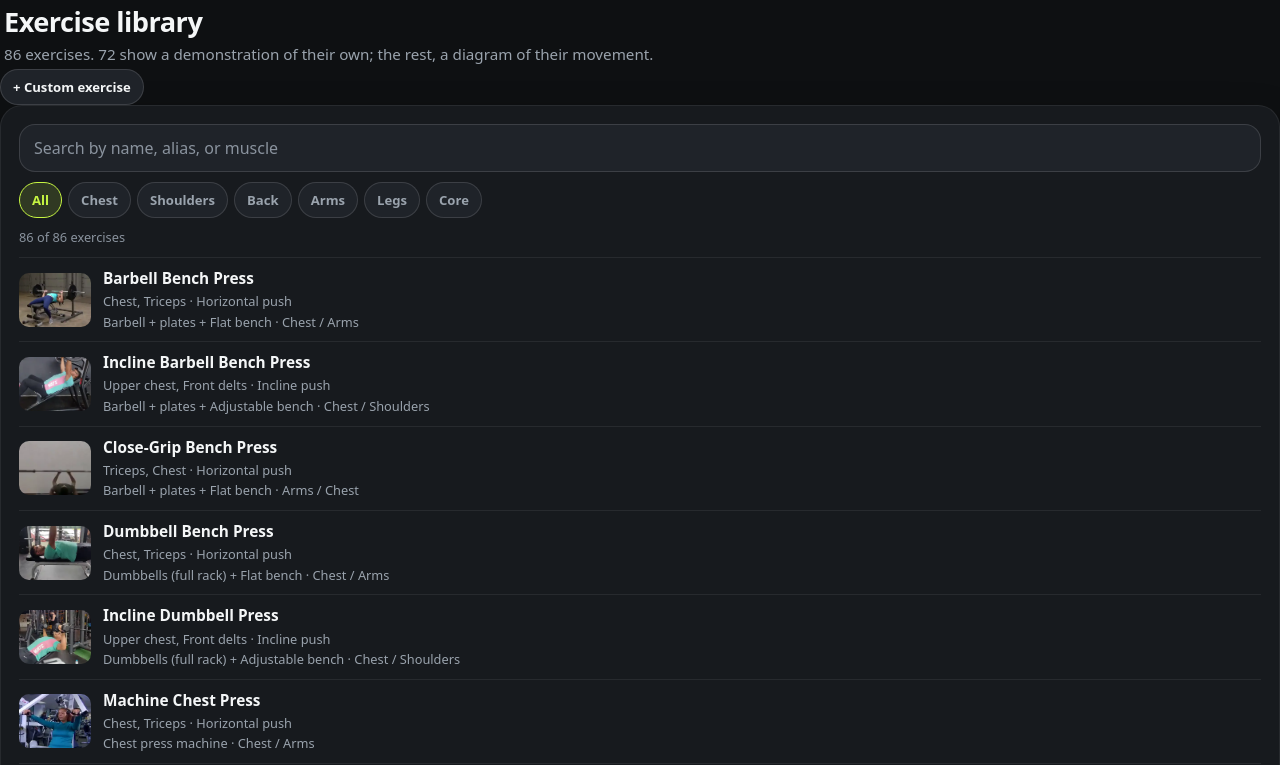
LibraryScreen › opens an exercise with its demonstration, instructions, and ranked alternatives
The width and height of the screenshot is (1280, 765).
Type "barbell bench" into the search field named "Search exercises" at (640, 148), box [19,124,1261,172]
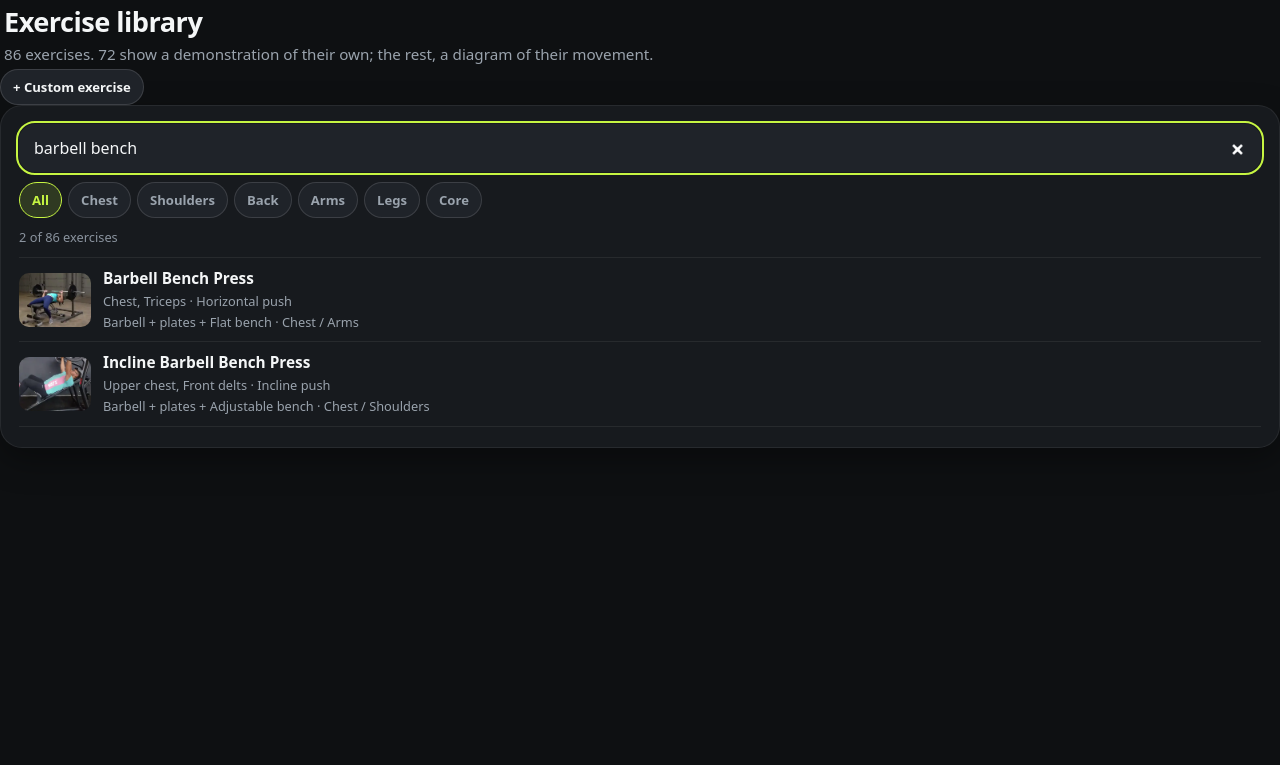
Click the button with test id "library-row" that starts with "Barbell Bench Press" at (55, 300), box [19,258,1261,342]
(page scrolled)
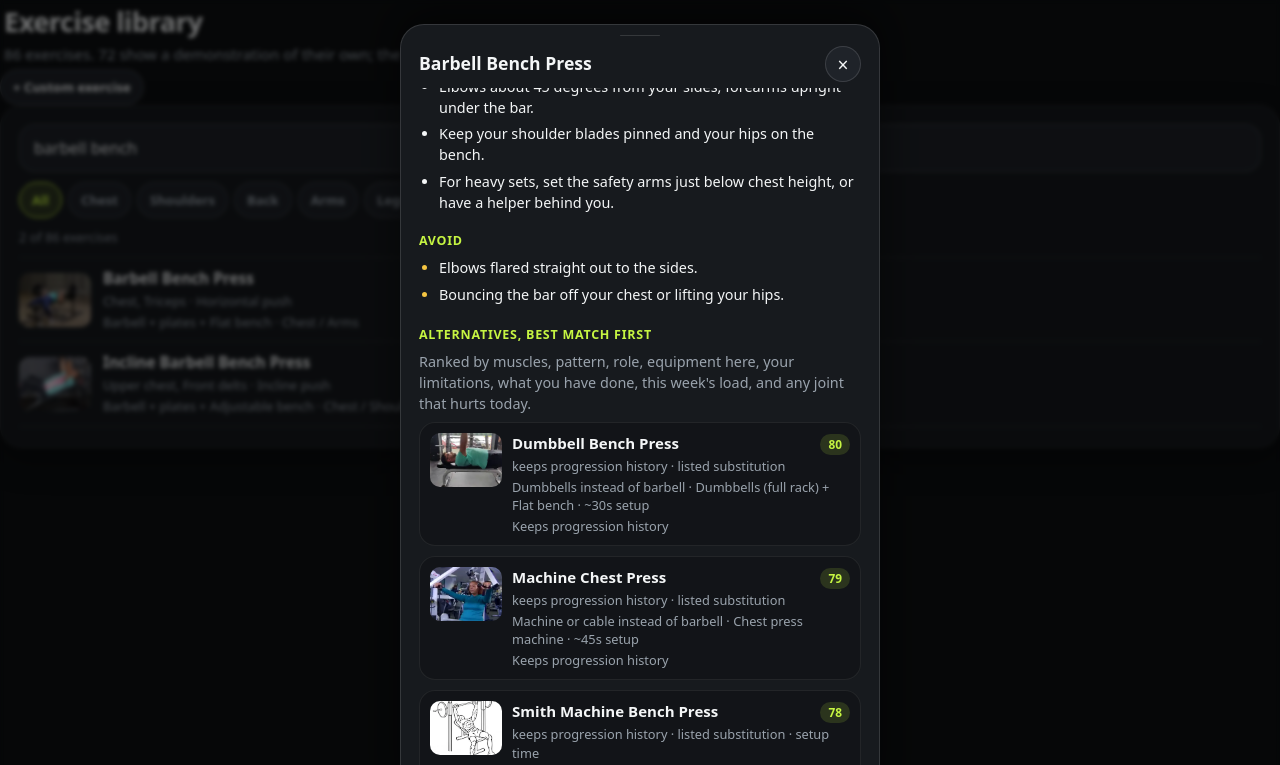
Expected: the heading "Avoid" is shown, [419,232,463,249]
Expected: the text "Dumbbell Bench Press" is shown, [512,434,679,455]
